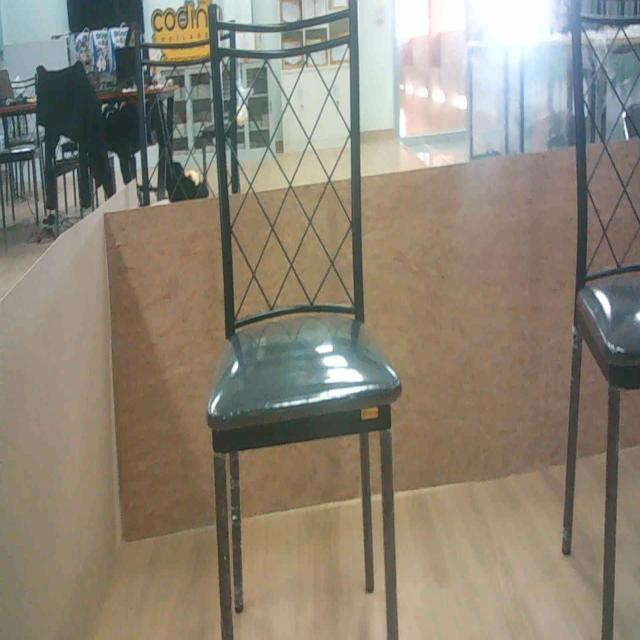emtpy: (196, 0, 411, 640)
